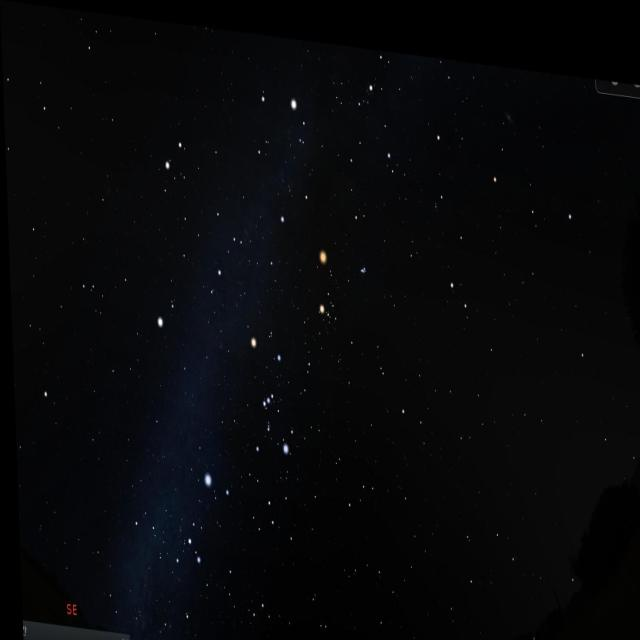canis_major: (178, 453, 232, 566)
canis_minor: (145, 285, 180, 341)
gemini: (163, 122, 251, 308)
orion: (240, 322, 288, 464)
pleiades: (352, 248, 372, 272)
taurus: (308, 237, 395, 358)
